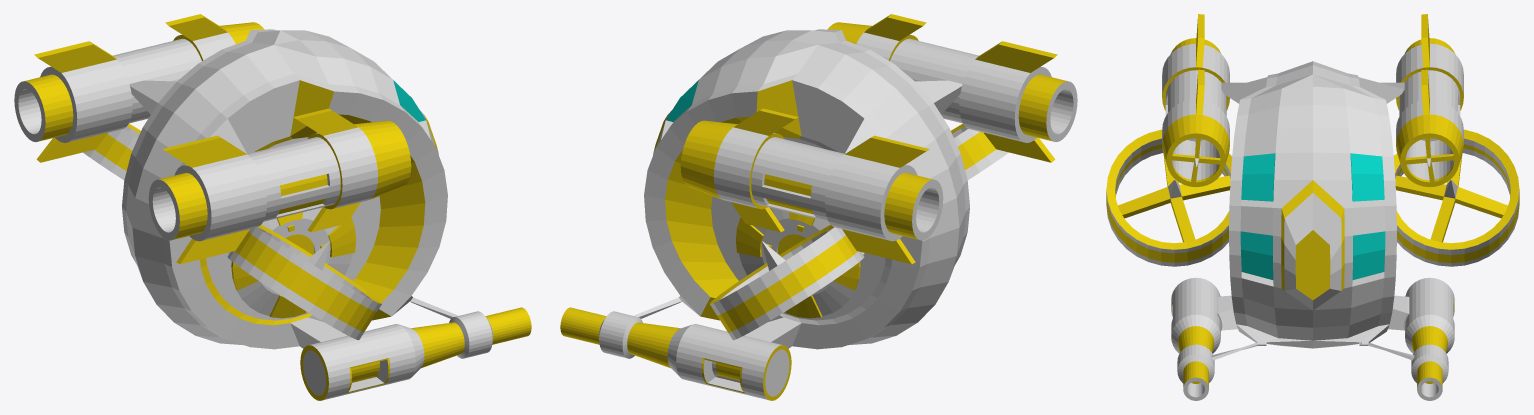
The model's file is Tank.fbx.
3 views of the same model, side by side, from view 1: azimuth 30°, elevation 25°; view 2: azimuth 150°, elevation 25°; view 3: azimuth 270°, elevation 25° (orthographic). The views are drawn at different scales.
Parts seen in each view (by area): view 1: Cylinder; view 2: Cylinder; view 3: Cylinder.
Part boxes in pixels (<box>): Cylinder: <box>14,14,531,400</box>; Cylinder: <box>560,14,1077,400</box>; Cylinder: <box>1106,14,1519,400</box>.
Size of the model in its own units: 1119 by 887 by 1278.
